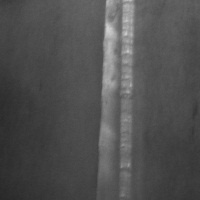scratches: (92, 0, 138, 199)
